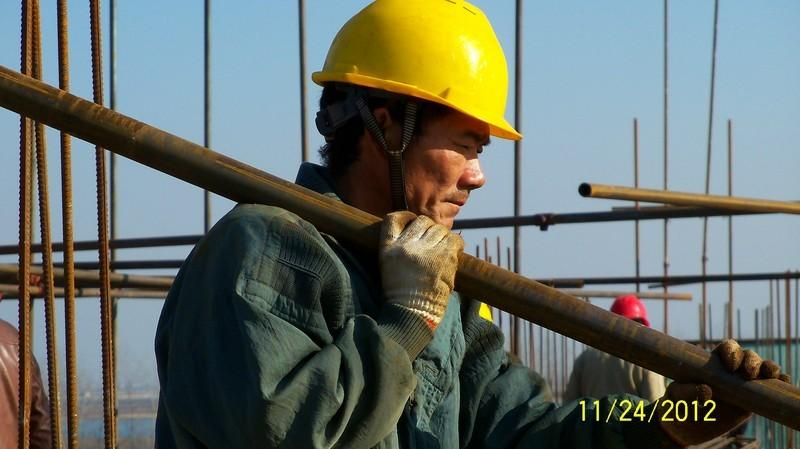helmet: (312, 1, 523, 140), (611, 295, 650, 325)
